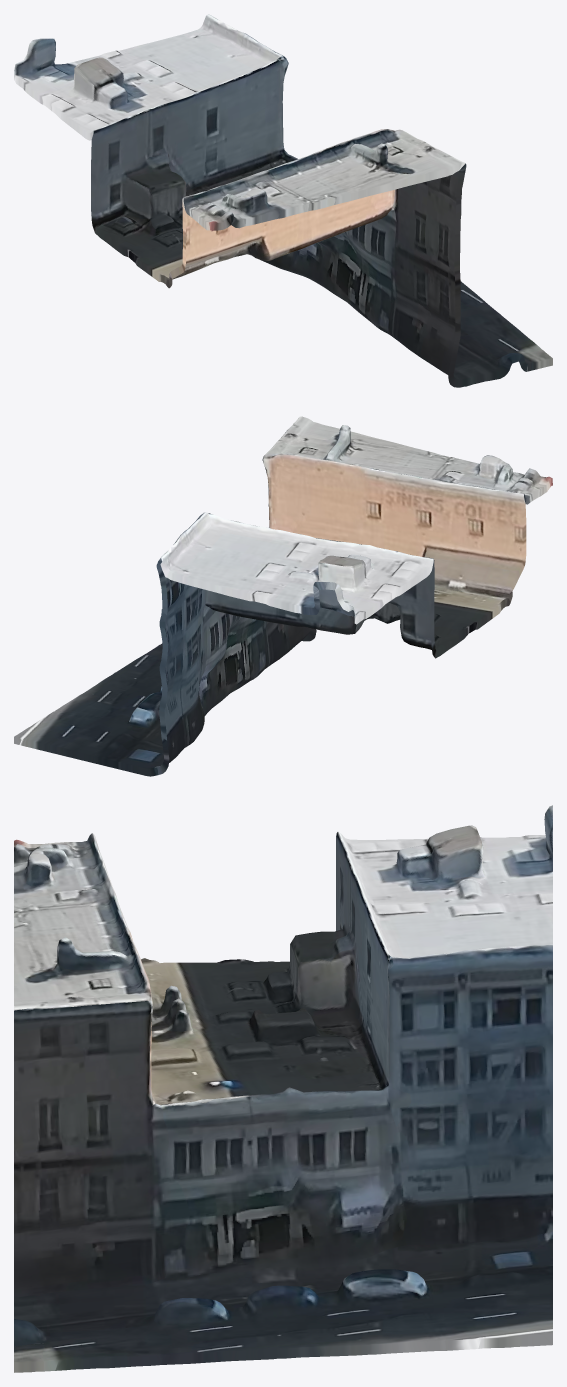
Rendered from z20-167745-405244-h0-yup-uvflip-v3-world.glb.
3 renders of one model, top to bottom at view 1: azimuth 30°, elevation 25°; view 2: azimuth 150°, elevation 25°; view 3: azimuth 270°, elevation 25°, orthographic. The views are drawn at different scales.
Size of the model in its own units: 30.2 by 21.96 by 30.32.
1 material, 1 textured.
